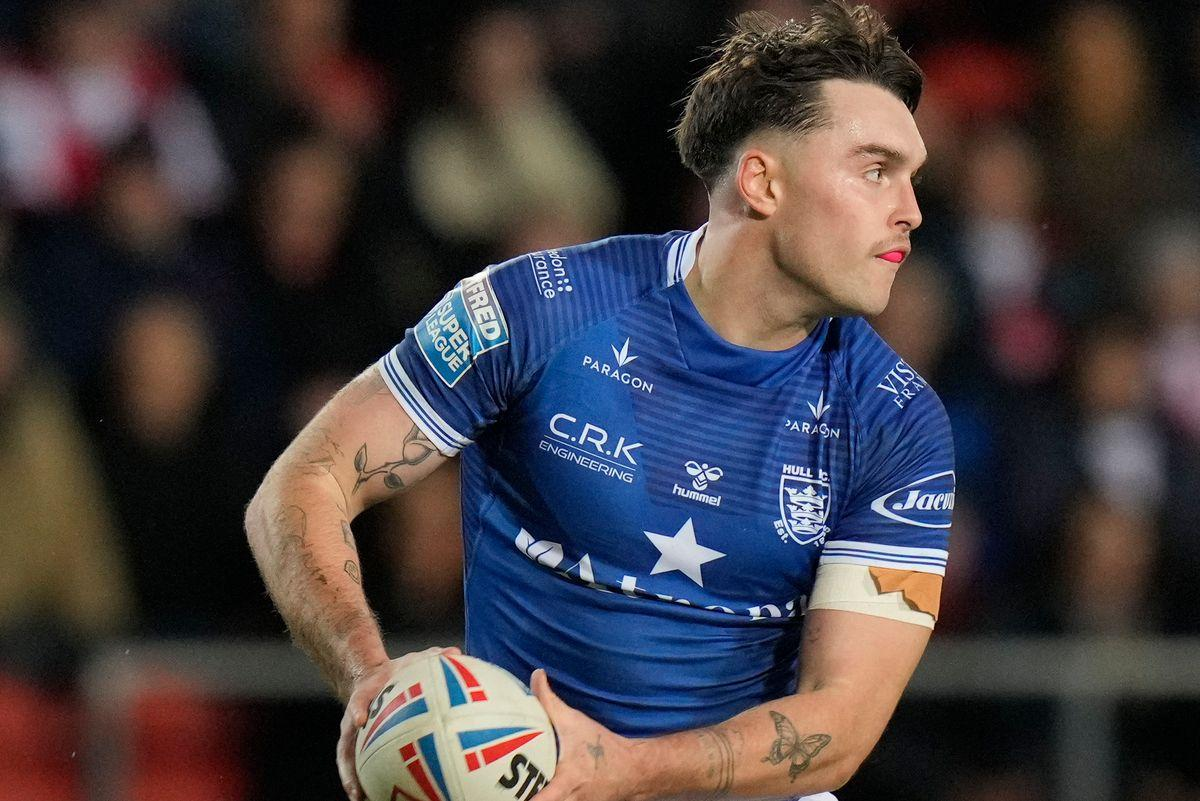ballon_rugby: (352, 649, 561, 801)
